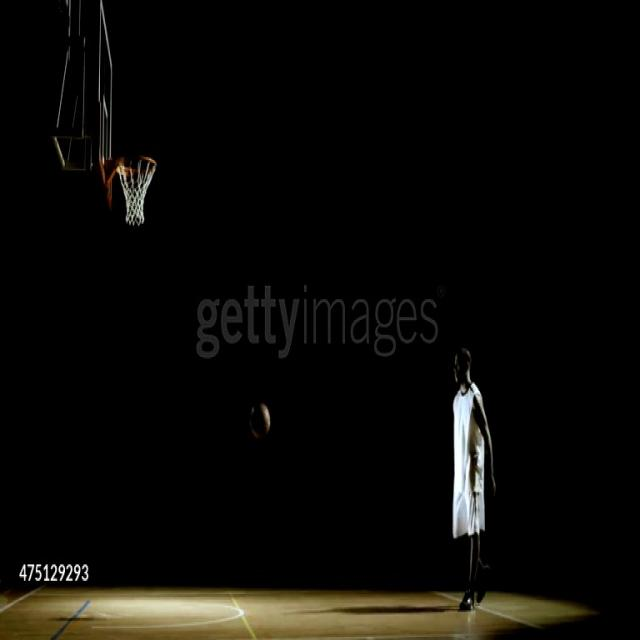ball: (249, 403, 271, 440)
